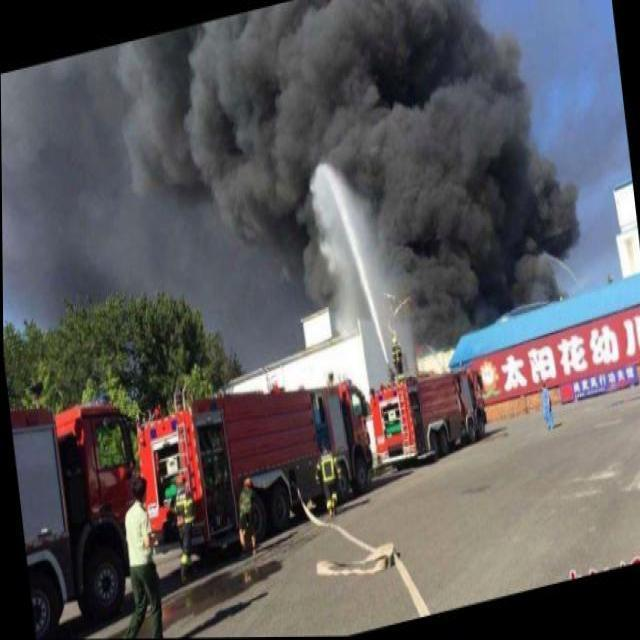smoke: (370, 104, 582, 352), (299, 0, 507, 160), (210, 2, 318, 270), (113, 23, 229, 221)
